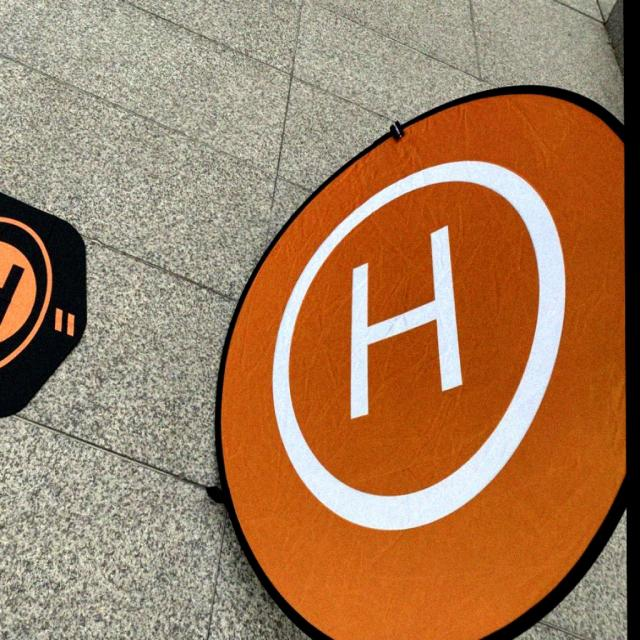helipad: (262, 155, 573, 538)
